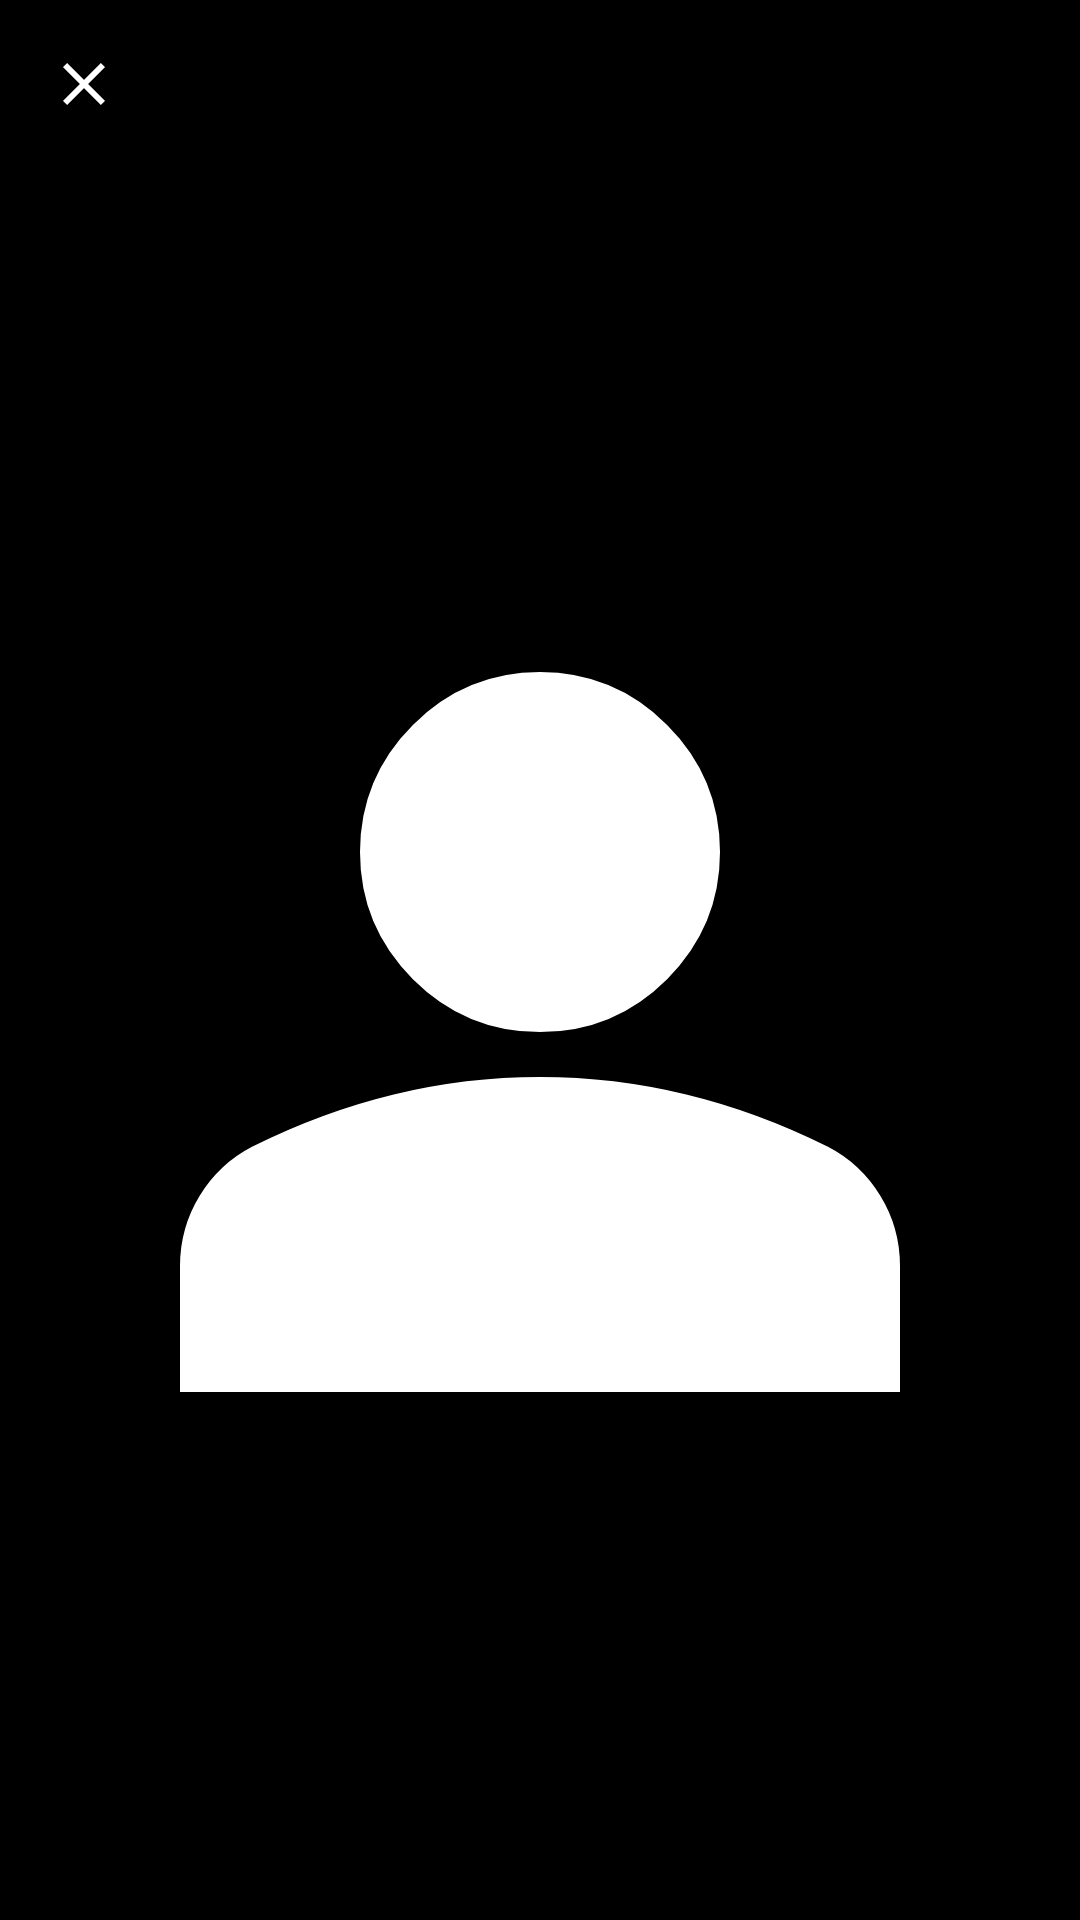

Screen size 1080px×1920px. Icon name, then its center in pixels as point (x, y):
닫기 버튼: point (84, 84)
